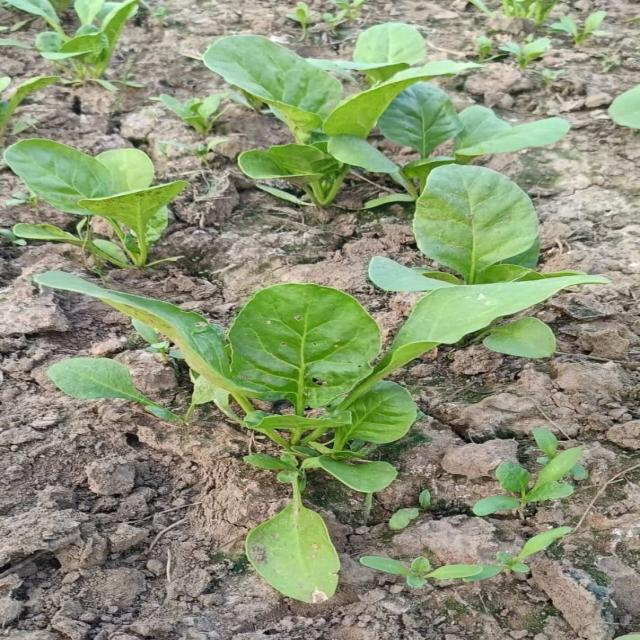plant: (35, 24, 605, 601), (6, 139, 184, 267), (49, 359, 184, 420)
